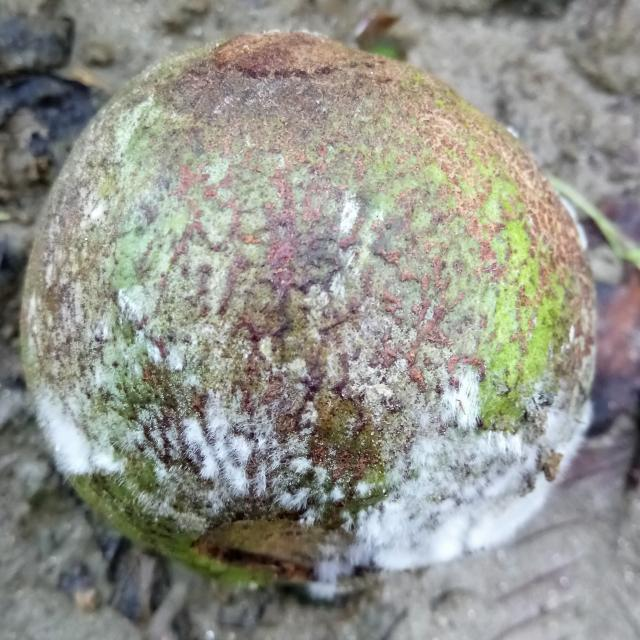Phytopthora: (22, 33, 594, 583)
